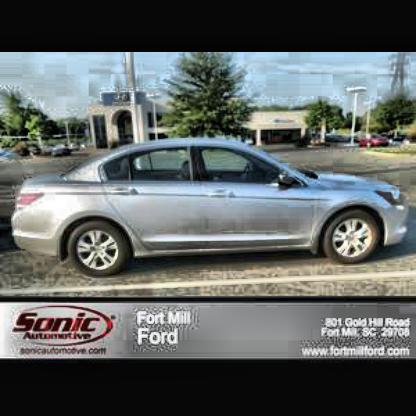Honda Accord Sedan 2012: (13, 141, 409, 281)
